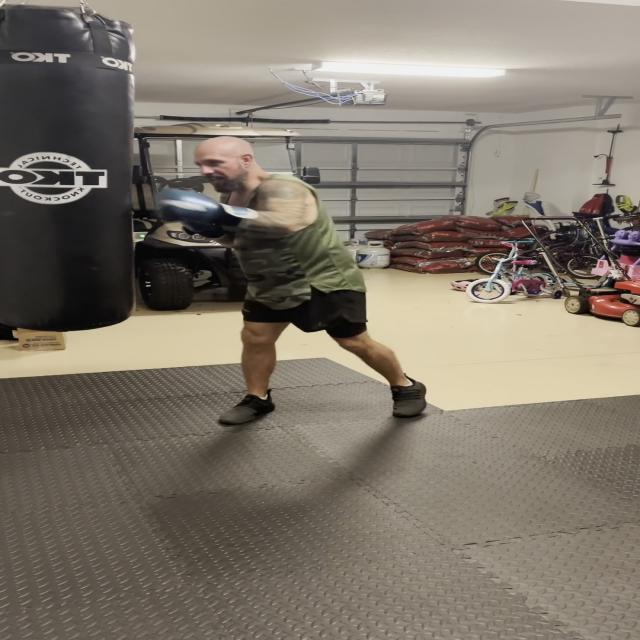bag: (1, 0, 148, 334)
cross: (120, 128, 333, 254)
